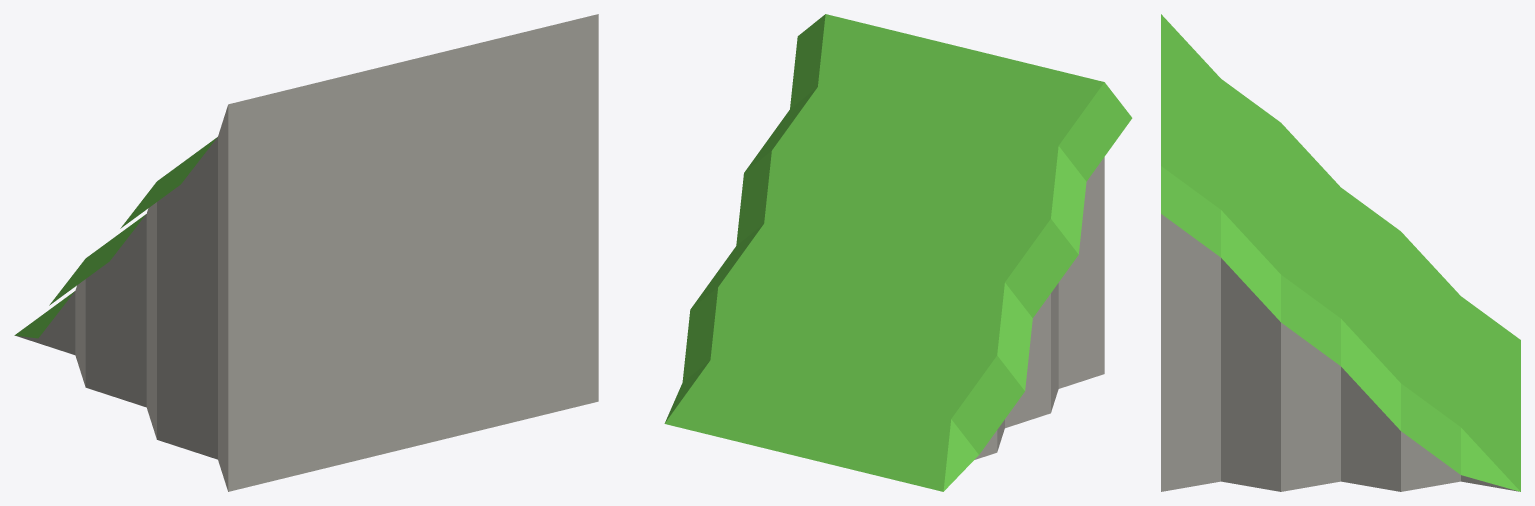
File: cliff_blockSlope_stone.glb
The picture shows the model from 3 angles, left to right: view 1: azimuth 30°, elevation 25°; view 2: azimuth 150°, elevation 25°; view 3: azimuth 270°, elevation 25°; orthographic projection. The views are drawn at different scales.
Visible parts, largest first — view 1: cliff_blockSlope_stone; view 2: cliff_blockSlope_stone; view 3: cliff_blockSlope_stone.
Boxes of the visible parts, bbox=[...] form: cliff_blockSlope_stone: bbox=[14, 14, 598, 491]; cliff_blockSlope_stone: bbox=[664, 14, 1132, 491]; cliff_blockSlope_stone: bbox=[1161, 14, 1520, 491].
Size of the model in its own units: 1.2 by 1 by 1.
